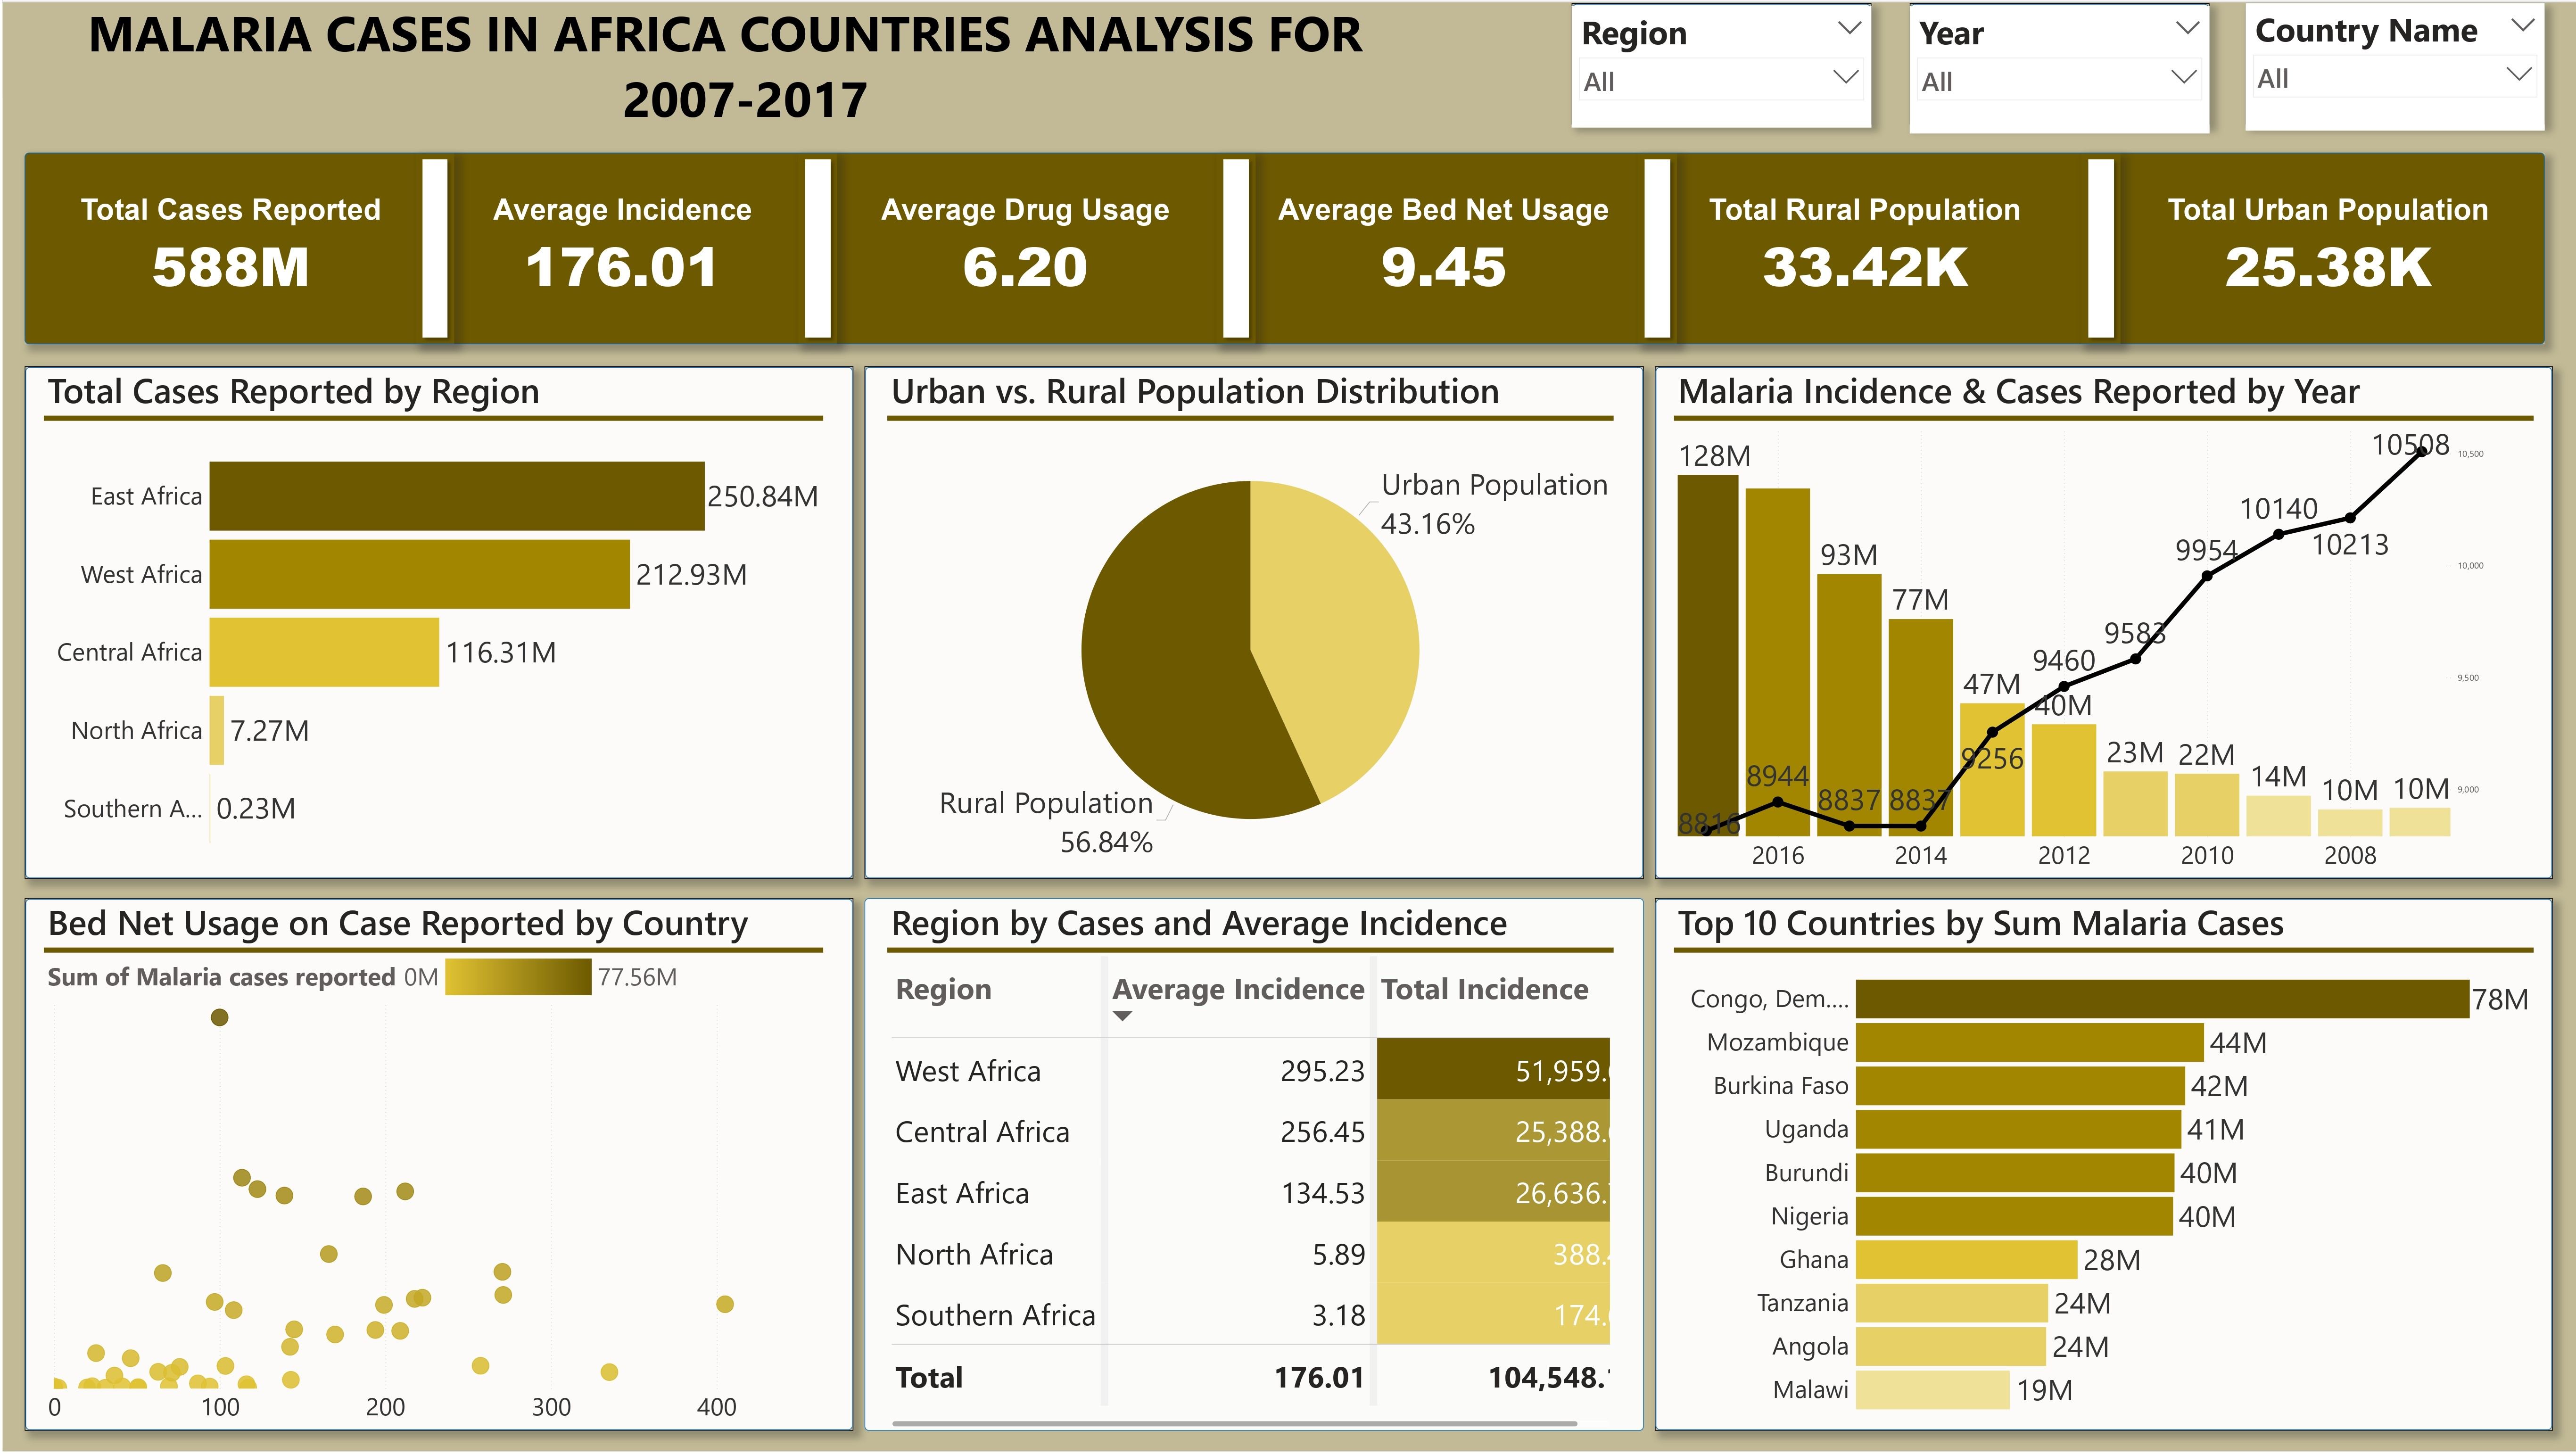

Layout of this report page (visuals, bound fields, positions):
{"tool":"powerbi","page":{"name":"DASHBOARD","canvas":[3500,2000],"ordinal":0},"visuals":[{"type":"shape","box":[30.1,237.1,3421,259.7],"z":1000,"group":"g1"},{"type":"shape","box":[30.1,526.9,1125.3,696.2],"z":1000},{"type":"shape","box":[30.1,1249.5,1125.3,722.6],"z":2000},{"type":"shape","box":[1170.4,526.9,1057.5,696.2],"z":3000},{"type":"shape","box":[1170.4,1249.5,1057.5,722.6],"z":4000},{"type":"shape","box":[2243,526.9,1219.4,696.2],"z":5000},{"type":"shape","box":[2243,1249.5,1219.4,722.6],"z":6000},{"type":"shape","box":[2130.1,33.9,406.5,165.6],"z":7000},{"type":"shape","box":[2589.2,33.9,406.5,165.6],"z":8000},{"type":"cardVisual","fields":{"Data":["All Measure.Total Cases Reported"]},"box":[75.3,237.1,470.4,259.7],"z":8000,"group":"g1"},{"type":"shape","box":[3044.6,33.9,406.5,165.6],"z":9000},{"type":"cardVisual","fields":{"Data":["All Measure.Average Malaria Incidence"]},"box":[579.6,237.1,526.9,259.7],"z":9000,"group":"g1"},{"type":"slicer","fields":{"Values":["Sheet1.Region"]},"box":[2130.1,37.6,406.5,165.6],"z":10000},{"type":"cardVisual","fields":{"Data":["All Measure.Average Children Drug Usage"]},"box":[1132.8,237.1,511.8,259.7],"z":10000,"group":"g1"},{"type":"slicer","fields":{"Values":["DatasetAfricaMalaria.Year"]},"box":[2589.2,37.6,406.5,173.1],"z":11000},{"type":"cardVisual","fields":{"Data":["All Measure.Average Bed Net Usage"]},"box":[1701.1,237.1,511.8,259.7],"z":11000,"group":"g1"},{"type":"slicer","fields":{"Values":["Sheet1.Country Name"]},"box":[3044.6,33.9,406.5,173.1],"z":12000},{"type":"cardVisual","fields":{"Data":["All Measure.Average % Rural Population"]},"box":[2273.1,237.1,511.8,259.7],"z":12000,"group":"g1"},{"type":"cardVisual","fields":{"Data":["All Measure.Average % of Urban Population"]},"box":[2901.6,237.1,511.8,259.7],"z":13000,"group":"g1"},{"type":"tableEx","title":"Region by Cases and Average Incidence","fields":{"Values":["Sheet1.Region","All Measure.Average Malaria Incidence","All Measure.Total Malaria Incidence"]},"box":[1200.5,1249.5,986,722.6],"z":13000},{"type":"group","id":"g1","title":"Group 1","box":[30.1,237.1,3421,259.7],"z":14000},{"type":"shape","box":[560.7,237.1,52.7,259.7],"z":14000,"group":"g1"},{"type":"shape","box":[1080.1,237.1,52.7,259.7],"z":15000,"group":"g1"},{"type":"lineStackedColumnComboChart","title":"Malaria Incidence & Cases Reported by Year","fields":{"Category":["DatasetAfricaMalaria.Year"],"Y":["Sum(DatasetAfricaMalaria.Malaria cases reported)"],"Y2":["Sum(DatasetAfricaMalaria.Incidence of malaria (per 1,000 population at risk))"]},"box":[2269.4,526.9,1166.7,696.2],"z":15000},{"type":"shape","box":[1648.4,237.1,52.7,259.7],"z":16000,"group":"g1"},{"type":"scatterChart","title":"Bed Net Usage on Case Reported by Country","fields":{"Y":["Sum(DatasetAfricaMalaria.Malaria cases reported)"],"X":["Sum(DatasetAfricaMalaria.Use of insecticide-treated bed nets (% of under-5 population))"],"Category":["Sheet1.Country Name"]},"box":[56.5,1249.5,1057.5,722.6],"z":16000},{"type":"shape","box":[2220.4,237.1,52.7,259.7],"z":17000,"group":"g1"},{"type":"pieChart","title":"Urban vs. Rural Population Distribution","fields":{"Y":["Sum(DatasetAfricaMalaria.Urban population (% of total population))","Sum(DatasetAfricaMalaria.Rural population (% of total population))"]},"box":[1200.5,526.9,986,696.2],"z":17000},{"type":"shape","box":[2822.6,237.1,52.7,259.7],"z":18000,"group":"g1"},{"type":"barChart","fields":{"Category":["Sheet1.Region"],"Y":["All Measure.Total Cases Reported"]},"box":[56.5,526.9,1057.5,696.2],"z":18000},{"type":"barChart","title":"Top 10 Countries by Sum Malaria Cases","fields":{"Category":["DatasetAfricaMalaria.Country Name"],"Y":["Sum(DatasetAfricaMalaria.Malaria cases reported)"]},"box":[2269.4,1249.5,1166.7,722.6],"z":19000},{"type":"card","fields":{"Values":["All Measure.Interactve Title"]},"box":[30.1,0,1957,207],"z":20001}]}

Visuals, with their boxes in screenshot pixels (x1, y1, x2, y2), scaled from the page's 3500x2000 canvas onto the 2576x1454 screenshot:
shape: (x1=22, y1=173, x2=2540, y2=361)
shape: (x1=22, y1=383, x2=850, y2=889)
shape: (x1=22, y1=909, x2=850, y2=1434)
shape: (x1=861, y1=383, x2=1640, y2=889)
shape: (x1=861, y1=909, x2=1640, y2=1434)
shape: (x1=1651, y1=383, x2=2548, y2=889)
shape: (x1=1651, y1=909, x2=2548, y2=1434)
shape: (x1=1568, y1=25, x2=1867, y2=145)
shape: (x1=1906, y1=25, x2=2205, y2=145)
cardVisual - All Measure.Total Cases Reported: (x1=56, y1=173, x2=402, y2=361)
shape: (x1=2241, y1=25, x2=2540, y2=145)
cardVisual - All Measure.Average Malaria Incidence: (x1=427, y1=173, x2=814, y2=361)
slicer - Sheet1.Region: (x1=1568, y1=27, x2=1867, y2=148)
cardVisual - All Measure.Average Children Drug Usage: (x1=834, y1=173, x2=1210, y2=361)
slicer - DatasetAfricaMalaria.Year: (x1=1906, y1=27, x2=2205, y2=153)
cardVisual - All Measure.Average Bed Net Usage: (x1=1252, y1=173, x2=1629, y2=361)
slicer - Sheet1.Country Name: (x1=2241, y1=25, x2=2540, y2=150)
cardVisual - All Measure.Average % Rural Population: (x1=1673, y1=173, x2=2050, y2=361)
cardVisual - All Measure.Average % of Urban Population: (x1=2136, y1=173, x2=2512, y2=361)
"Region by Cases and Average Incidence" tableEx: (x1=883, y1=909, x2=1609, y2=1434)
"Group 1" group: (x1=22, y1=173, x2=2540, y2=361)
shape: (x1=413, y1=173, x2=452, y2=361)
shape: (x1=795, y1=173, x2=834, y2=361)
"Malaria Incidence & Cases Reported by Year" lineStackedColumnComboChart: (x1=1670, y1=383, x2=2529, y2=889)
shape: (x1=1213, y1=173, x2=1252, y2=361)
"Bed Net Usage on Case Reported by Country" scatterChart: (x1=41, y1=909, x2=820, y2=1434)
shape: (x1=1634, y1=173, x2=1673, y2=361)
"Urban vs. Rural Population Distribution" pieChart: (x1=883, y1=383, x2=1609, y2=889)
shape: (x1=2077, y1=173, x2=2116, y2=361)
barChart - Sheet1.Region x All Measure.Total Cases Reported: (x1=41, y1=383, x2=820, y2=889)
"Top 10 Countries by Sum Malaria Cases" barChart: (x1=1670, y1=909, x2=2529, y2=1434)
card - All Measure.Interactve Title: (x1=22, y1=0, x2=1462, y2=150)
